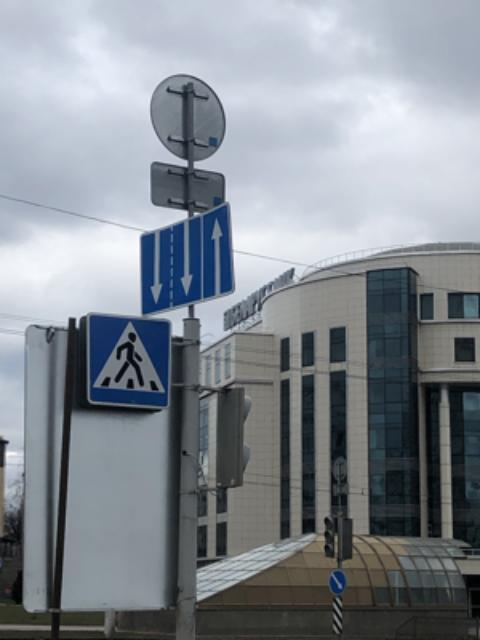crosswalk-sign: (80, 312, 174, 412)
